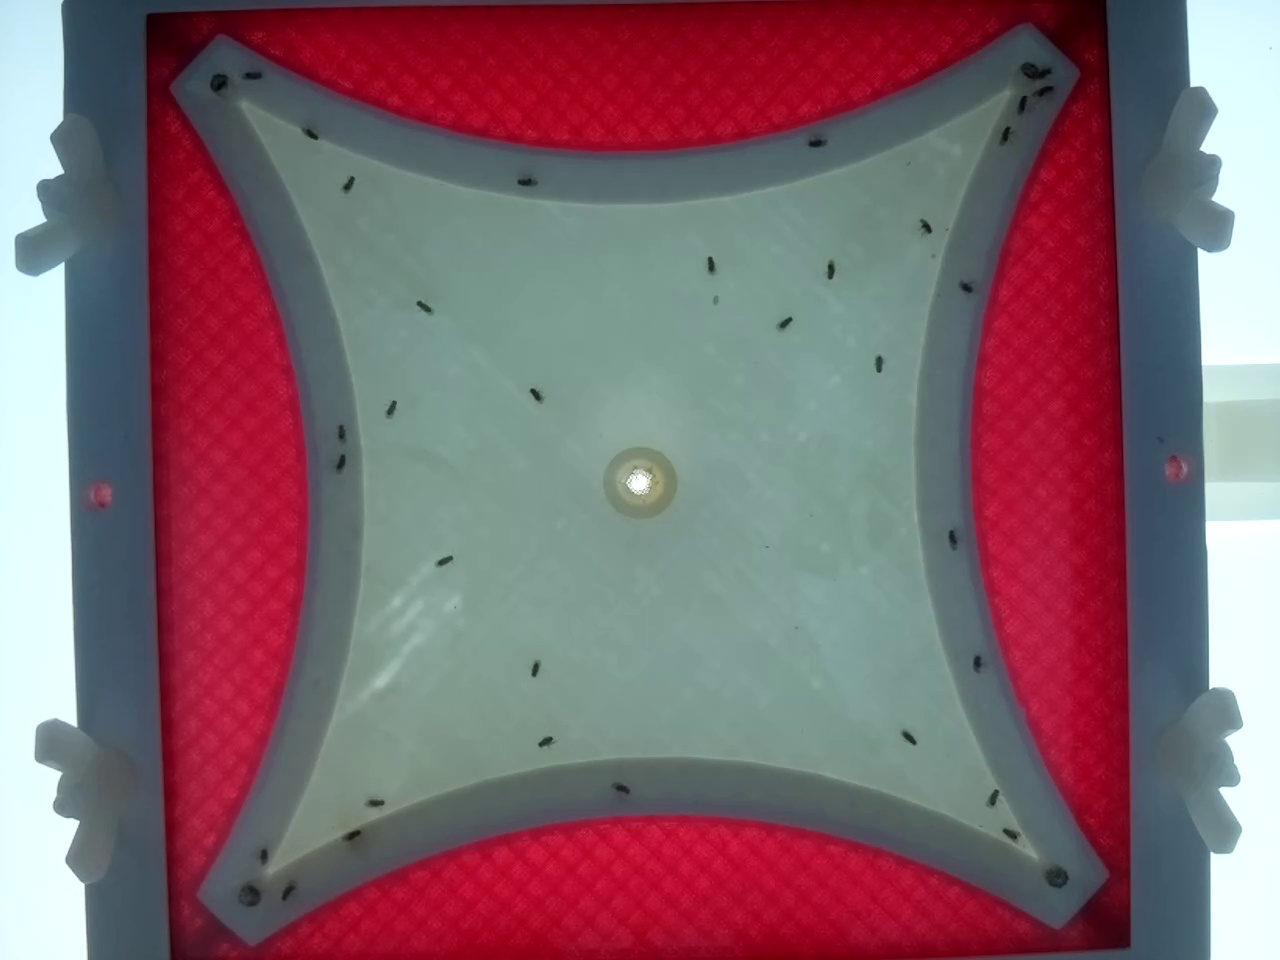fly: (992, 122, 1017, 147), (913, 214, 938, 239), (1008, 91, 1033, 116), (1030, 78, 1055, 103), (801, 130, 826, 155), (241, 63, 266, 88), (772, 310, 797, 335), (523, 382, 548, 407), (866, 351, 891, 376), (327, 450, 352, 475), (605, 446, 630, 471), (896, 725, 921, 750), (362, 790, 387, 815), (250, 841, 275, 866), (342, 820, 367, 845), (533, 729, 558, 754), (997, 821, 1022, 846), (980, 785, 1005, 810), (297, 120, 322, 145), (336, 171, 361, 196), (513, 169, 538, 194), (411, 294, 436, 319), (698, 252, 723, 277), (1031, 59, 1056, 84), (953, 275, 978, 301), (817, 257, 842, 282), (329, 417, 354, 442), (378, 395, 403, 419), (432, 547, 457, 572), (964, 649, 989, 674), (522, 655, 547, 680), (608, 775, 633, 800), (275, 878, 300, 903), (238, 877, 263, 902), (939, 524, 964, 549)
